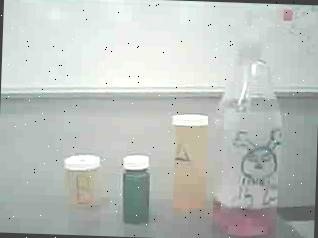Bottle A: (167, 112, 211, 215)
Bottle B: (61, 152, 106, 212)
Bottle C: (119, 153, 160, 227)
hazard: (211, 2, 296, 238)
